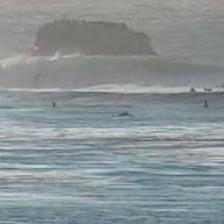surfer: (111, 111, 135, 118), (214, 82, 223, 90), (203, 86, 212, 92), (202, 101, 209, 108), (188, 87, 196, 93), (51, 102, 56, 108)
